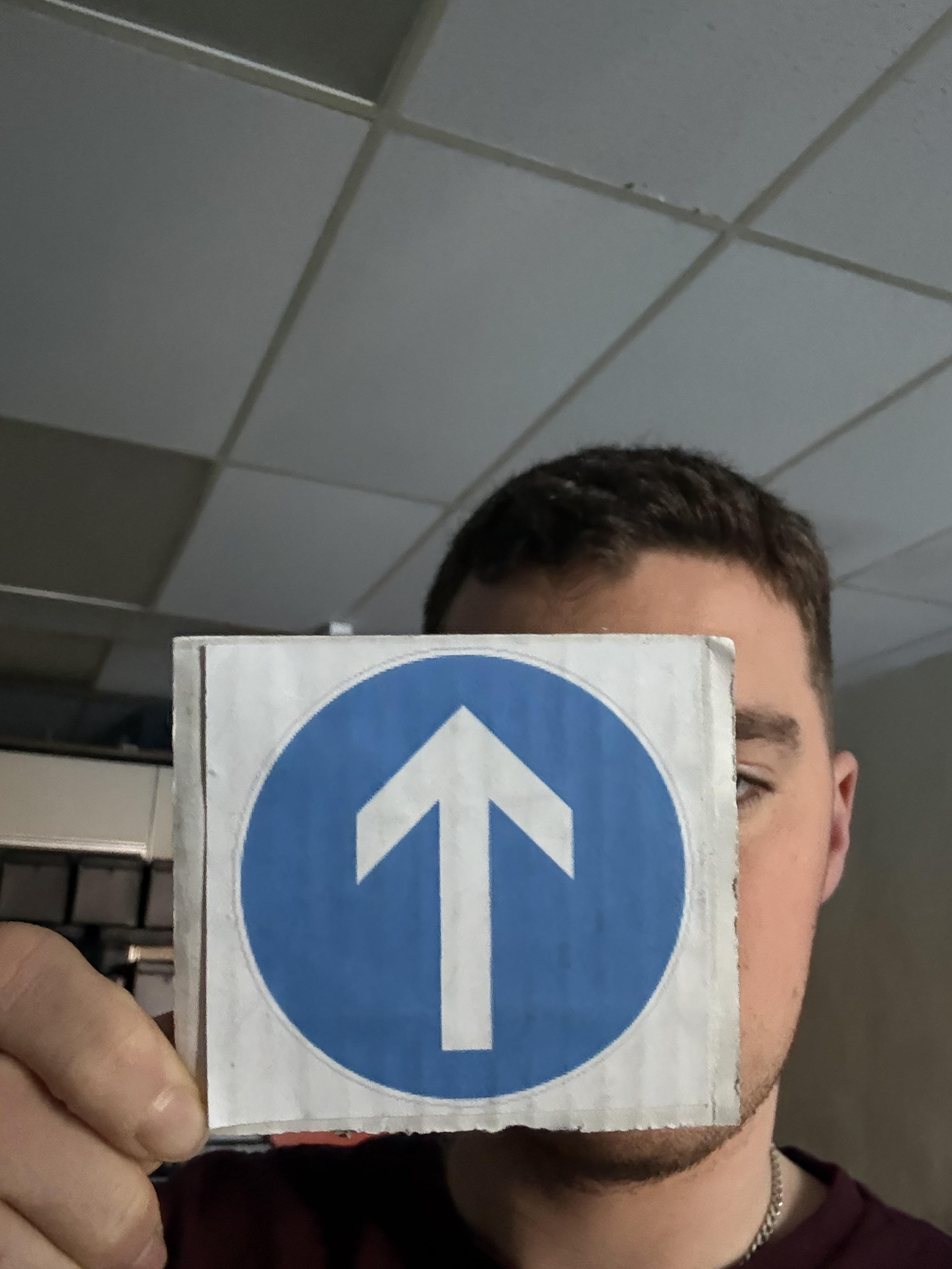Proceed Forward: (131, 860, 548, 1269)
